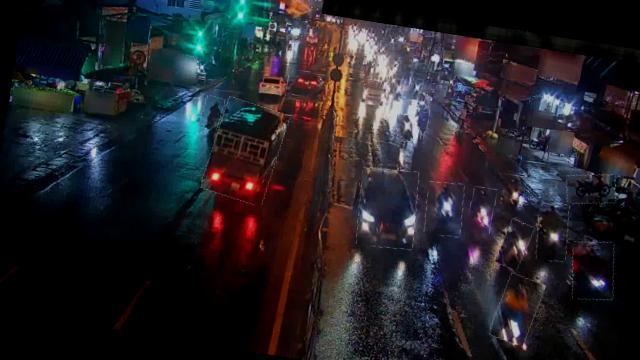Bike: (491, 273, 543, 346), (567, 238, 620, 302), (421, 180, 467, 238), (532, 202, 572, 262), (564, 169, 618, 208), (497, 218, 532, 270), (466, 186, 496, 235), (496, 172, 526, 208), (200, 94, 225, 131), (394, 112, 416, 142), (412, 105, 431, 131), (416, 91, 431, 113), (409, 78, 424, 98), (394, 78, 405, 98)
Car: (352, 164, 423, 252), (288, 70, 329, 100), (257, 70, 289, 100), (360, 76, 388, 108)
Truck: (202, 97, 288, 206)
